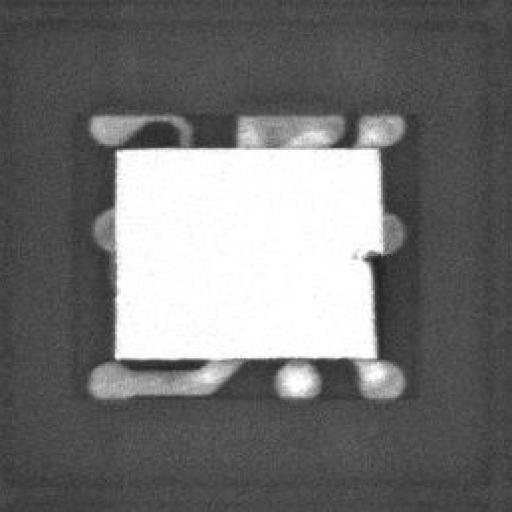DIE_BROKEN: (357, 244, 381, 354)
DIE_INK: (346, 248, 358, 262)
